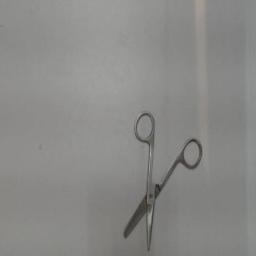Dressing Scissors: (118, 105, 206, 253)
